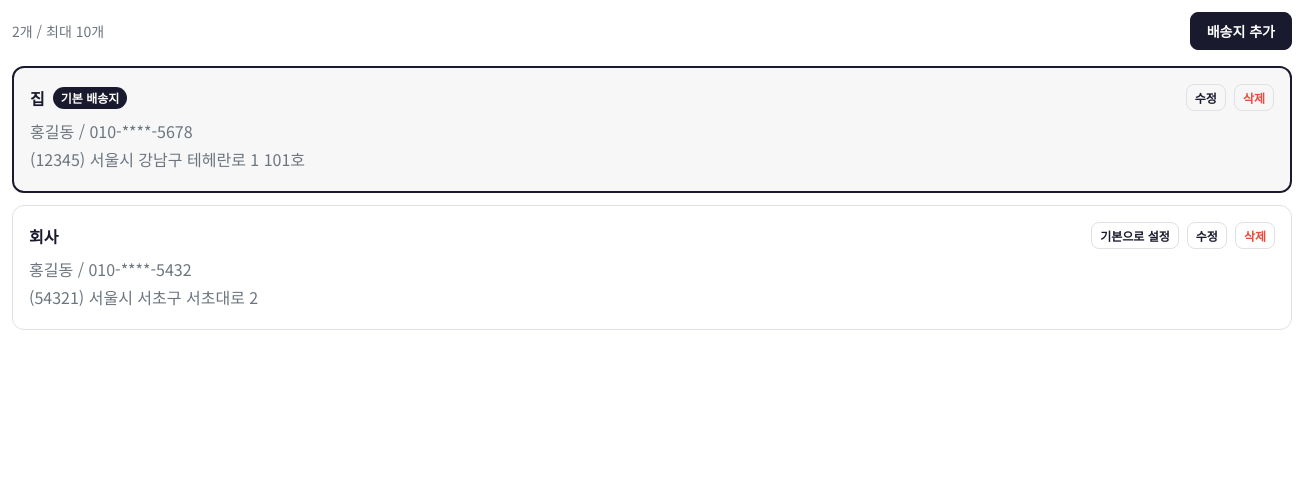
Test: AddressList › 삭제 API 에러 시 에러 메시지를 표시한다
Click the button with aria-label "집 삭제" at (1254,98), box [1234, 84, 1274, 111]
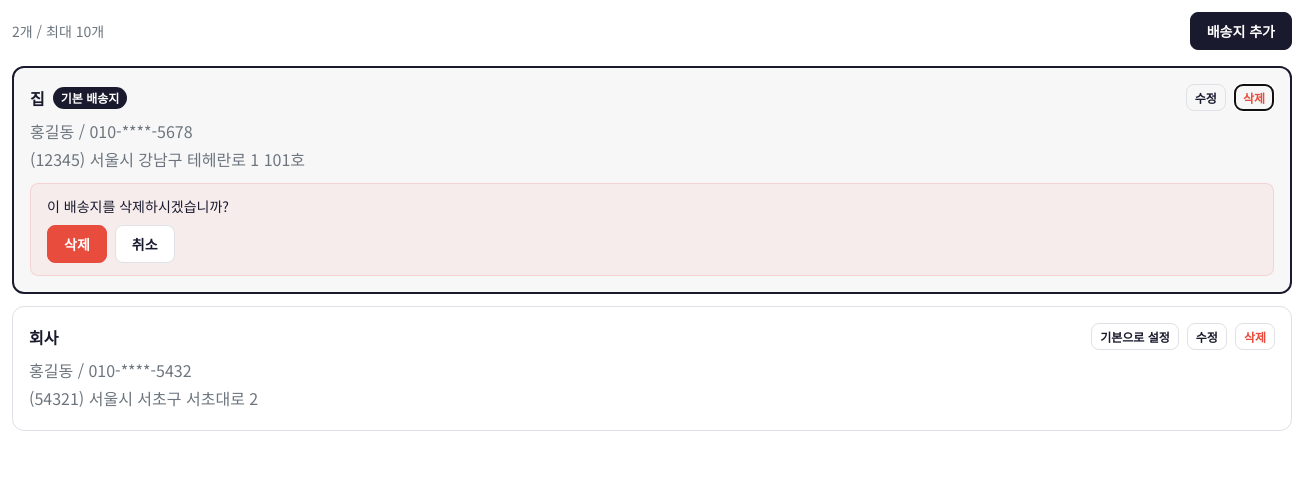
# 확인 다이얼로그 내 삭제 확인 버튼 클릭
Click the button with aria-label "삭제 확인" at (77,244), box [47, 225, 107, 263]
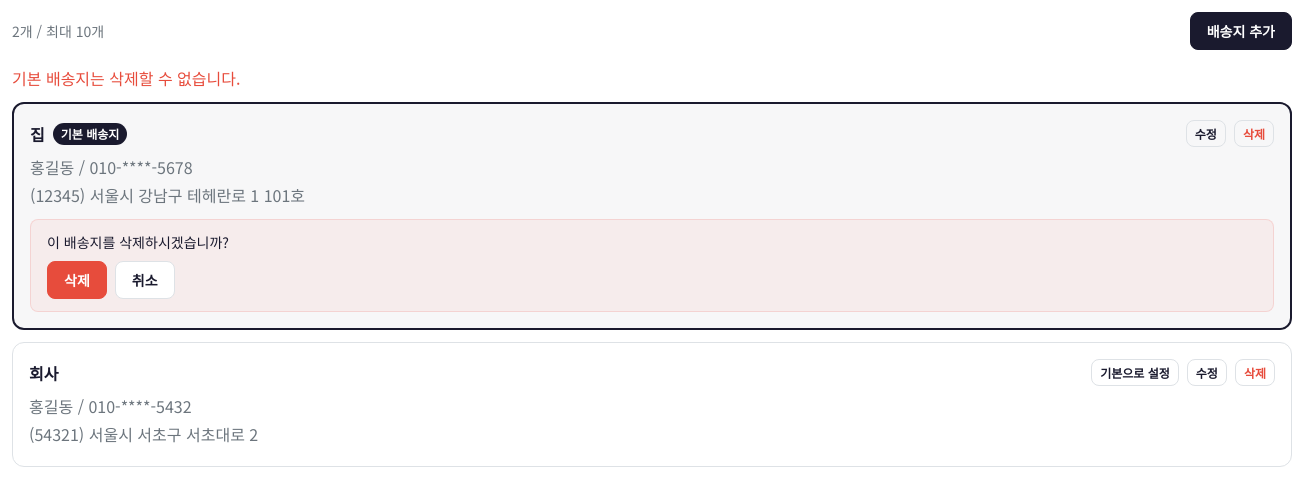
Check: the text "기본 배송지는 삭제할 수 없습니다." is shown, box [12, 66, 240, 90]
